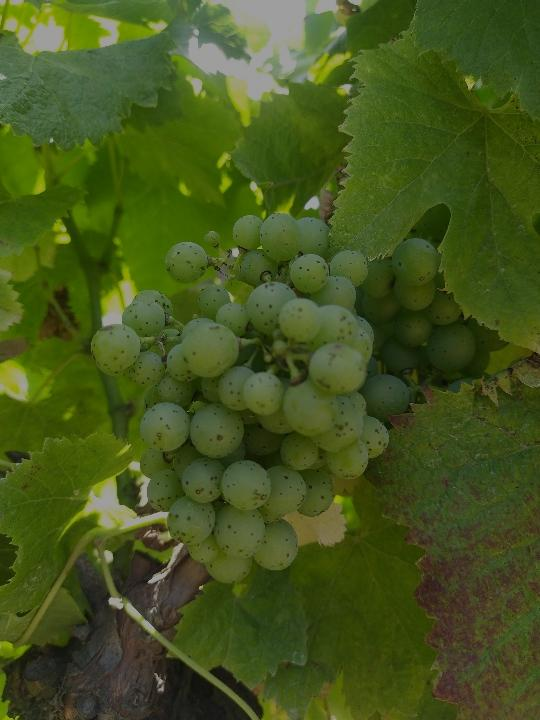grape: (92, 210, 394, 587)
